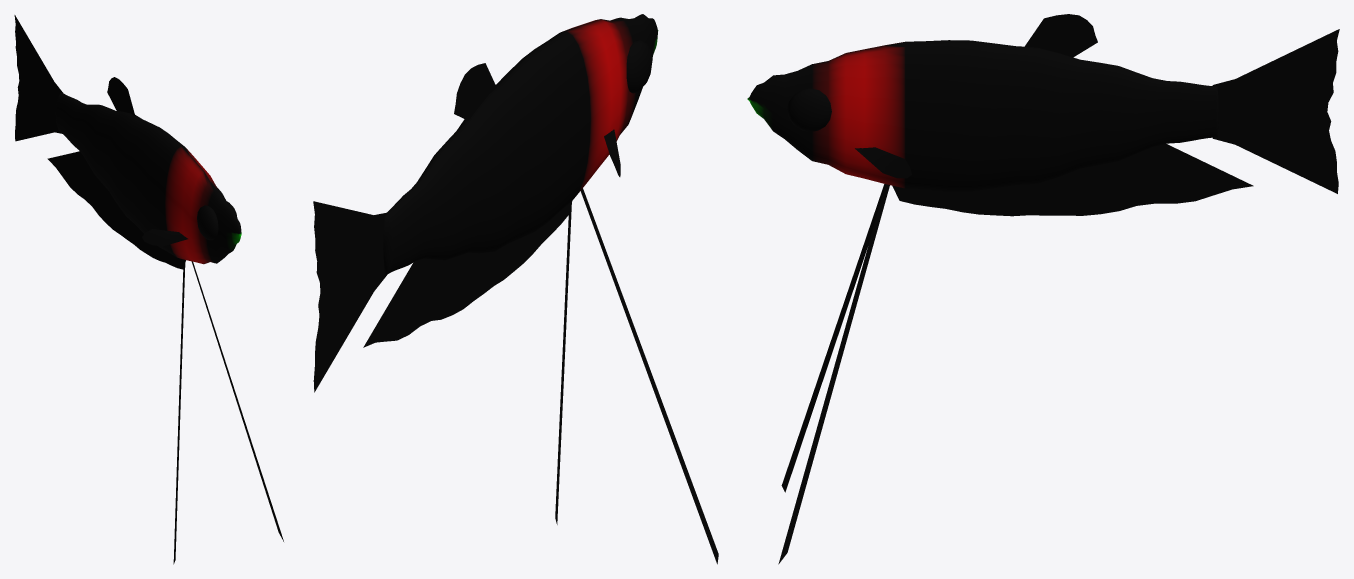
Rendered from pearl-gourami-female.glb.
The picture shows the model from 3 angles, left to right: view 1: azimuth 30°, elevation 25°; view 2: azimuth 150°, elevation 25°; view 3: azimuth 270°, elevation 25°; orthographic projection. The views are drawn at different scales.
Visible parts, largest first — view 1: pearlf_body, pearlf_caudal, pearlf_anal, pearlf_pelvicL, pearlf_pelvicR, pearlf_dorsal, pearlf_eyeL, pearlf_pectoralL; view 2: pearlf_body, pearlf_caudal, pearlf_anal, pearlf_pelvicL, pearlf_dorsal, pearlf_eyeL, pearlf_pelvicR; view 3: pearlf_body, pearlf_caudal, pearlf_anal, pearlf_pelvicR, pearlf_dorsal, pearlf_pelvicL, pearlf_eyeR, pearlf_pectoralR.
Part boxes in pixels (x1=…): pearlf_body: x1=55, y1=92, x2=241, y2=264; pearlf_caudal: x1=14, y1=15, x2=63, y2=141; pearlf_anal: x1=47, y1=151, x2=185, y2=269; pearlf_pelvicL: x1=173, y1=259, x2=185, y2=564; pearlf_pelvicR: x1=191, y1=261, x2=283, y2=541; pearlf_dorsal: x1=107, y1=77, x2=135, y2=115; pearlf_eyeL: x1=197, y1=205, x2=218, y2=240; pearlf_pectoralL: x1=142, y1=229, x2=187, y2=246; pearlf_body: x1=383, y1=14, x2=658, y2=275; pearlf_caudal: x1=313, y1=201, x2=387, y2=392; pearlf_anal: x1=363, y1=201, x2=572, y2=347; pearlf_pelvicL: x1=580, y1=188, x2=718, y2=564; pearlf_dorsal: x1=454, y1=63, x2=496, y2=120; pearlf_eyeL: x1=626, y1=40, x2=652, y2=93; pearlf_pelvicR: x1=555, y1=203, x2=571, y2=524; pearlf_body: x1=747, y1=40, x2=1219, y2=191; pearlf_caudal: x1=1212, y1=29, x2=1339, y2=193; pearlf_anal: x1=892, y1=144, x2=1253, y2=216; pearlf_pelvicR: x1=778, y1=184, x2=889, y2=564; pearlf_dorsal: x1=1024, y1=14, x2=1097, y2=57; pearlf_pelvicL: x1=781, y1=184, x2=885, y2=492; pearlf_eyeR: x1=787, y1=88, x2=831, y2=131; pearlf_pectoralR: x1=855, y1=147, x2=911, y2=178.
Bounding box in the file's own units: 0.3462 × 1.21 × 1.26.
